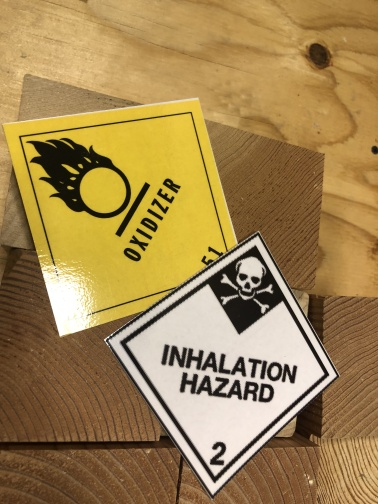InhalationHazard: (108, 233, 337, 496)
Oxidizer: (2, 100, 238, 337)
